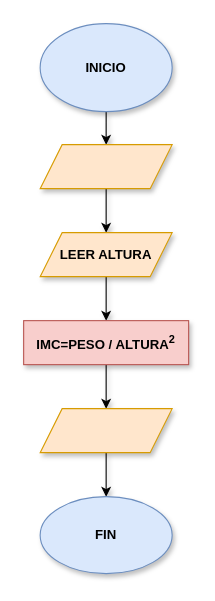
The diagram is 215 pixels wide and 601 high, and some of its shapes have lost their labels. Here are the shapes that lost their labels. From the top down, the centre of each, then its label:
At point 107,167: "LEER PESO".
At point 107,431: "ESCRIBIR IMC".
